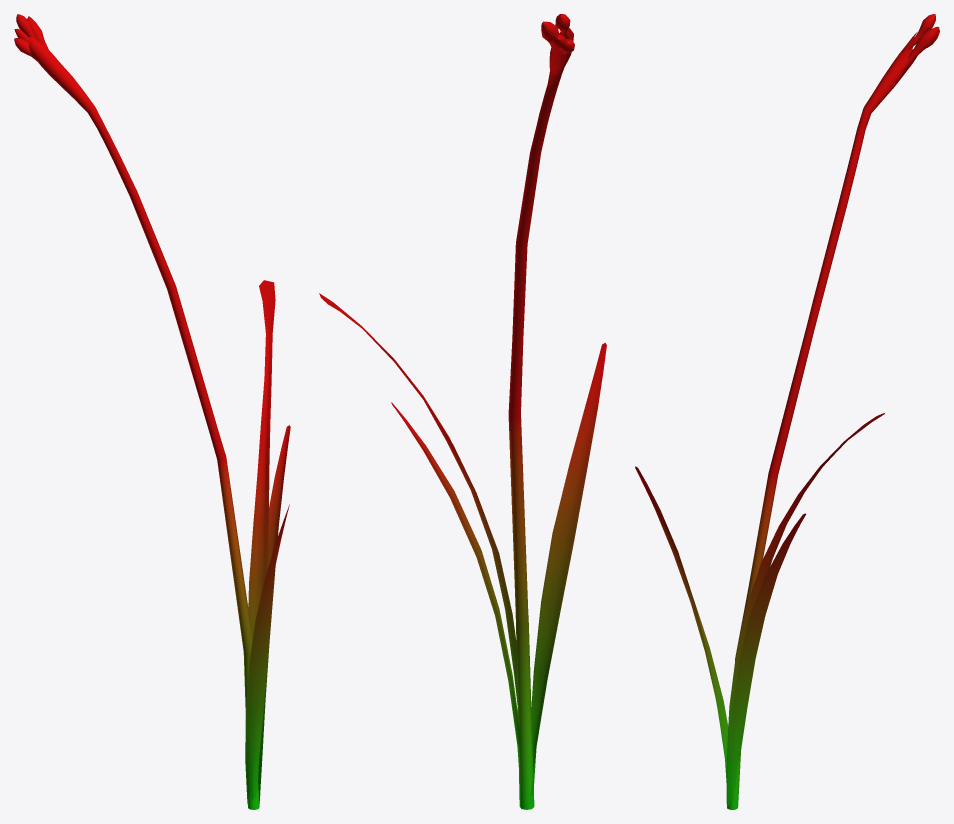
File: Rush Daffodil_LOD1_Var27_wftgfjaia.fbx
3 renders of one model, left to right at view 1: azimuth 30°, elevation 25°; view 2: azimuth 150°, elevation 25°; view 3: azimuth 270°, elevation 25°, orthographic. The views are drawn at different scales.
Parts seen in each view (by area): view 1: _5aby_var27_LOD1; view 2: _5aby_var27_LOD1; view 3: _5aby_var27_LOD1.
Part boxes in pixels (box(x1,y1,x2,y2)): _5aby_var27_LOD1: box(14, 14, 290, 809); _5aby_var27_LOD1: box(319, 14, 606, 809); _5aby_var27_LOD1: box(635, 14, 939, 809).
Bounding box in the file's own units: 9.94 × 30.62 × 11.58.
